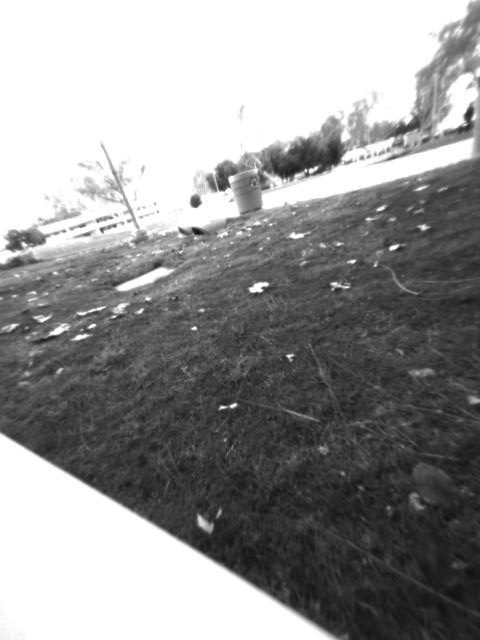trashcan: (225, 164, 266, 216)
